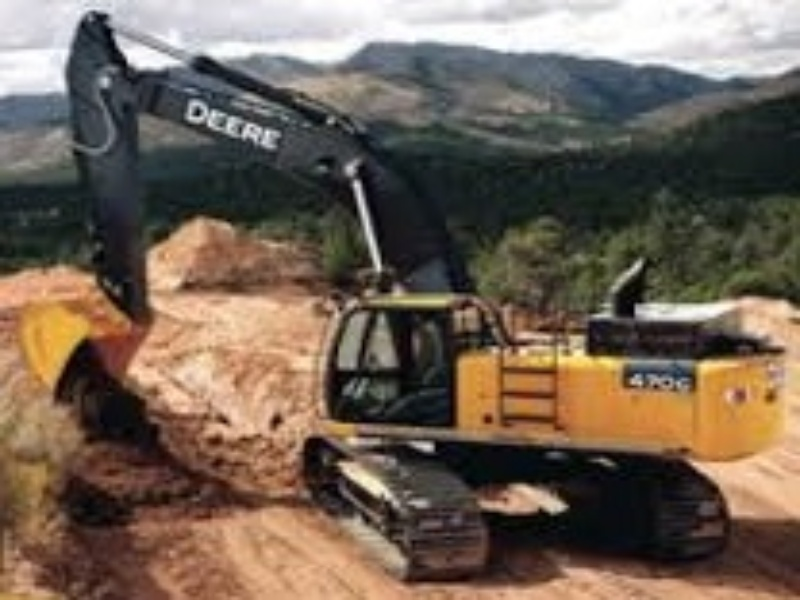wajueji: (289, 255, 799, 581)
